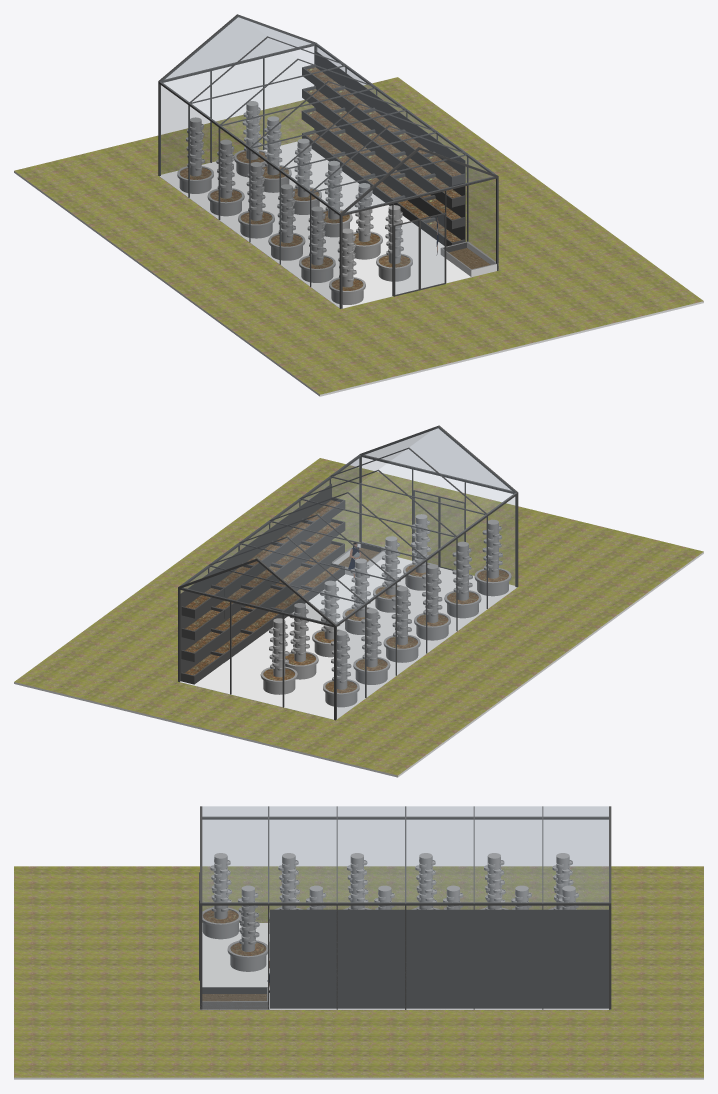
Rendered from Мой первый 3D.obj.
The picture shows the model from 3 angles, top to bottom: view 1: azimuth 30°, elevation 25°; view 2: azimuth 150°, elevation 25°; view 3: azimuth 270°, elevation 25°; orthographic projection. The views are drawn at different scales.
Visible parts, largest first — view 1: Mesh559 Model, Mesh554 Model, Mesh556 Model, Mesh6 Group6 Model, Mesh545 Group608 Group595 Model, Mesh557 Model, Mesh555 Model, Mesh558 Model, Mesh214 Group229 Model, Mesh128 Group139 Group137 Group124 Model, Mesh95 Group104 Group102 Group89 Model, Mesh62 Group69 Group67 Group54 Model (+13 smaller); view 2: Mesh559 Model, Mesh554 Model, Mesh556 Model, Mesh6 Group6 Model, Mesh555 Model, Mesh557 Model, Mesh545 Group608 Group595 Model, Mesh558 Model, Mesh413 Group441 Group440 Model, Mesh62 Group69 Group67 Group54 Model, Mesh95 Group104 Group102 Group89 Model, Mesh4 Group4 Model (+19 smaller); view 3: Mesh559 Model, Mesh558 Model, Mesh554 Model, Mesh413 Group441 Group440 Model, Mesh556 Model, Mesh6 Group6 Model, Mesh548 Group611 Group595 Model, Mesh4 Group4 Model, Mesh214 Group229 Model, Mesh360 Group385 Group383 Group370 Model, Mesh161 Group174 Group172 Group159 Model, Mesh160 Group173 Group172 Group159 Model (+6 smaller).
Part boxes in pixels (bbox=[...]): Mesh559 Model: bbox=[14, 77, 703, 396]; Mesh554 Model: bbox=[160, 15, 495, 213]; Mesh556 Model: bbox=[159, 85, 339, 307]; Mesh6 Group6 Model: bbox=[159, 141, 496, 308]; Mesh545 Group608 Group595 Model: bbox=[393, 212, 445, 296]; Mesh557 Model: bbox=[346, 150, 492, 212]; Mesh555 Model: bbox=[166, 18, 310, 78]; Mesh558 Model: bbox=[318, 48, 495, 260]; Mesh214 Group229 Model: bbox=[440, 241, 496, 277]; Mesh128 Group139 Group137 Group124 Model: bbox=[238, 162, 274, 227]; Mesh95 Group104 Group102 Group89 Model: bbox=[268, 184, 305, 249]; Mesh62 Group69 Group67 Group54 Model: bbox=[299, 206, 335, 272]; Mesh559 Model: bbox=[14, 458, 703, 777]; Mesh554 Model: bbox=[181, 427, 516, 624]; Mesh556 Model: bbox=[337, 496, 516, 718]; Mesh6 Group6 Model: bbox=[180, 557, 517, 719]; Mesh555 Model: bbox=[183, 561, 329, 623]; Mesh557 Model: bbox=[367, 429, 509, 489]; Mesh545 Group608 Group595 Model: bbox=[413, 490, 464, 570]; Mesh558 Model: bbox=[181, 459, 358, 592]; Mesh413 Group441 Group440 Model: bbox=[180, 484, 331, 680]; Mesh62 Group69 Group67 Group54 Model: bbox=[444, 541, 481, 607]; Mesh95 Group104 Group102 Group89 Model: bbox=[414, 564, 450, 629]; Mesh4 Group4 Model: bbox=[336, 492, 517, 626]; Mesh559 Model: bbox=[14, 866, 703, 1079]; Mesh558 Model: bbox=[202, 906, 608, 1009]; Mesh554 Model: bbox=[202, 806, 608, 902]; Mesh413 Group441 Group440 Model: bbox=[270, 909, 608, 1008]; Mesh556 Model: bbox=[203, 820, 608, 922]; Mesh6 Group6 Model: bbox=[200, 923, 610, 1009]; Mesh548 Group611 Group595 Model: bbox=[202, 902, 608, 905]; Mesh4 Group4 Model: bbox=[202, 816, 608, 819]; Mesh214 Group229 Model: bbox=[200, 987, 268, 1009]; Mesh360 Group385 Group383 Group370 Model: bbox=[227, 885, 267, 959]; Mesh161 Group174 Group172 Group159 Model: bbox=[202, 853, 241, 926]; Mesh160 Group173 Group172 Group159 Model: bbox=[202, 910, 238, 939].
Size of the model in its own units: 17.01 by 6.1 by 23.49.
Materials: 29 (3 with a texture image).
